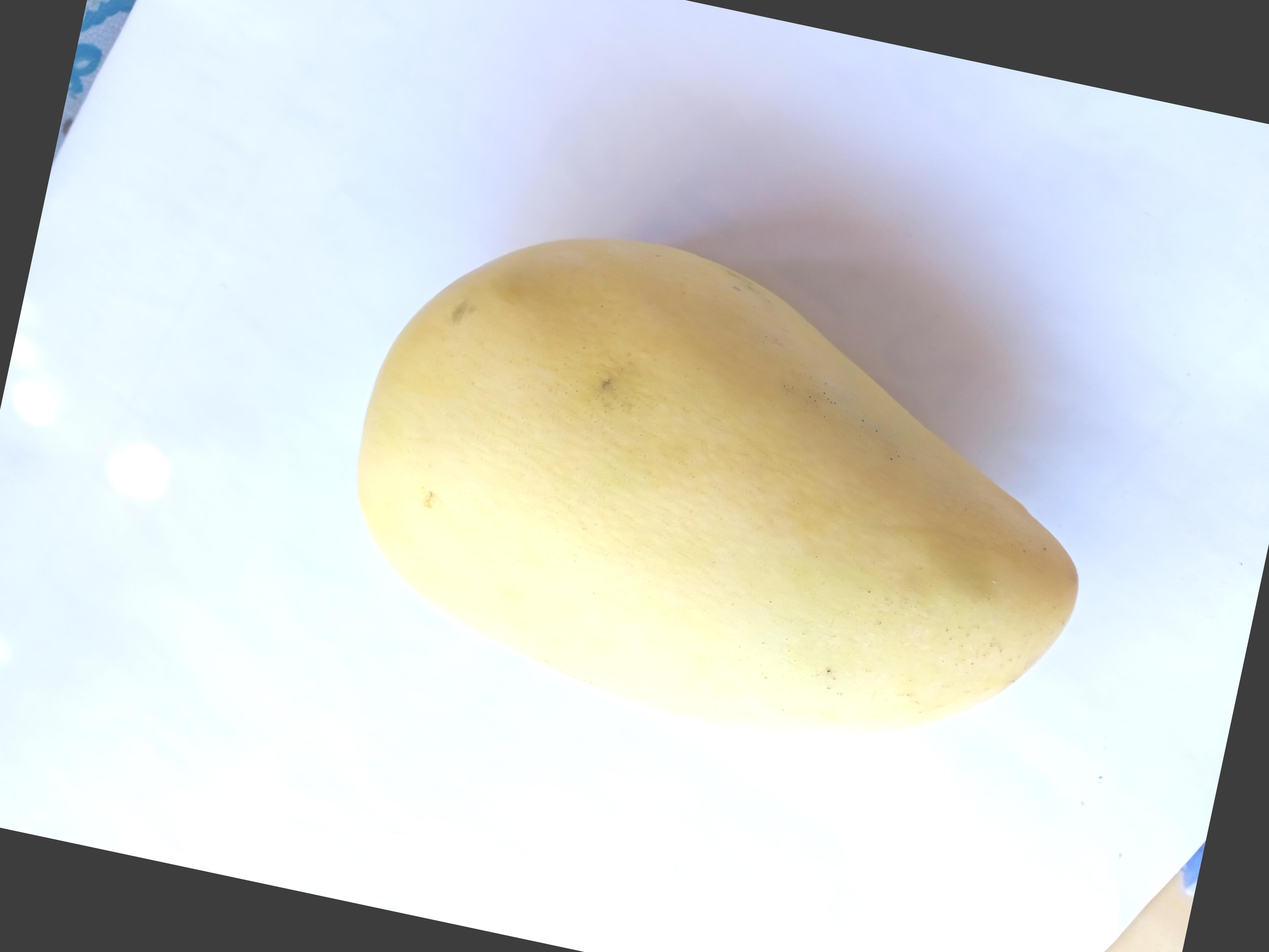Mango Ripe: (392, 0, 1269, 706)
